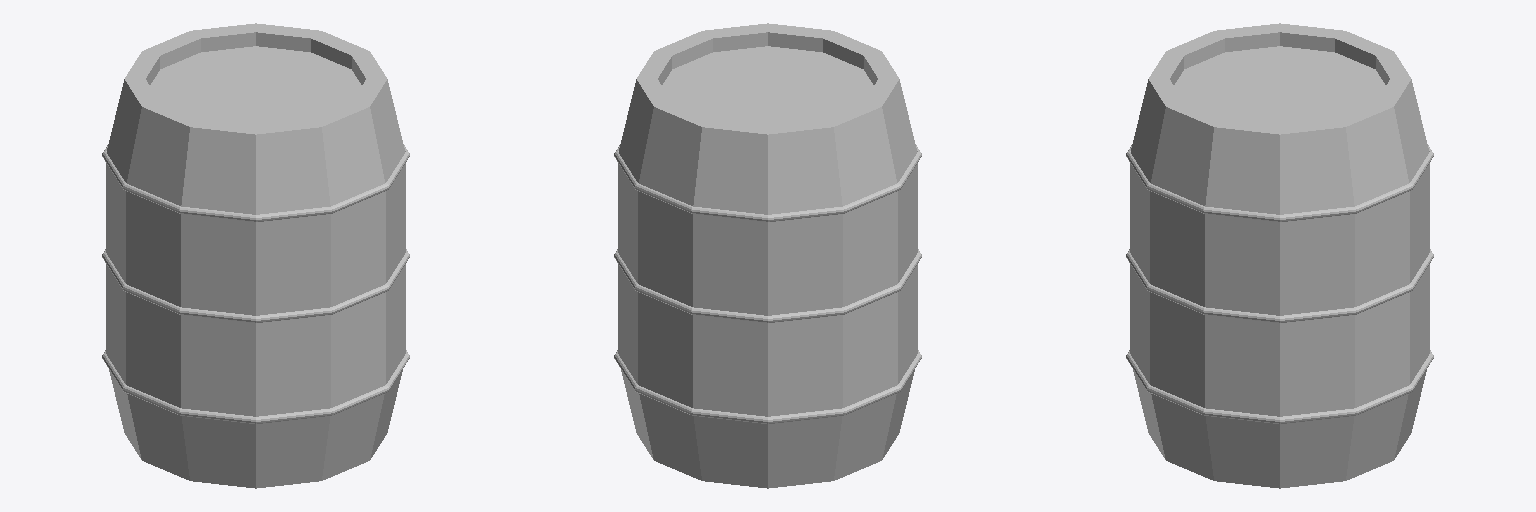
The model's file is barrel.obj.
The picture shows the model from 3 angles: view 1: azimuth 30°, elevation 25°; view 2: azimuth 150°, elevation 25°; view 3: azimuth 270°, elevation 25°; orthographic projection.
Visible parts, largest first — view 1: Barrel; view 2: Barrel; view 3: Barrel.
Part boxes in pixels (x1,y1,x2,y2): Barrel: (102, 23, 409, 488); Barrel: (614, 23, 921, 488); Barrel: (1126, 23, 1433, 488).
Size of the model in its own units: 1.58 by 2 by 1.58.